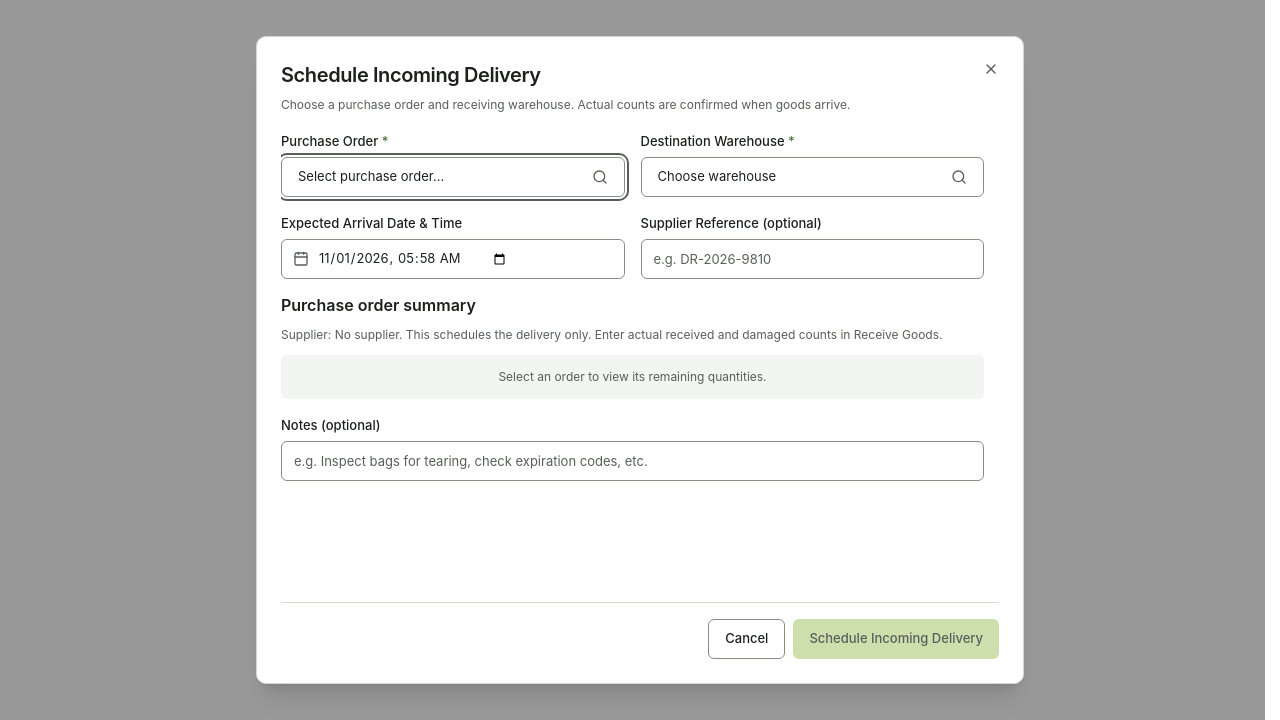
Test: loads pages only on demand, preserves filters and deduplicates selector options
Click the button "Select purchase order..." at x=371, y=176, box [281,157,624,197]
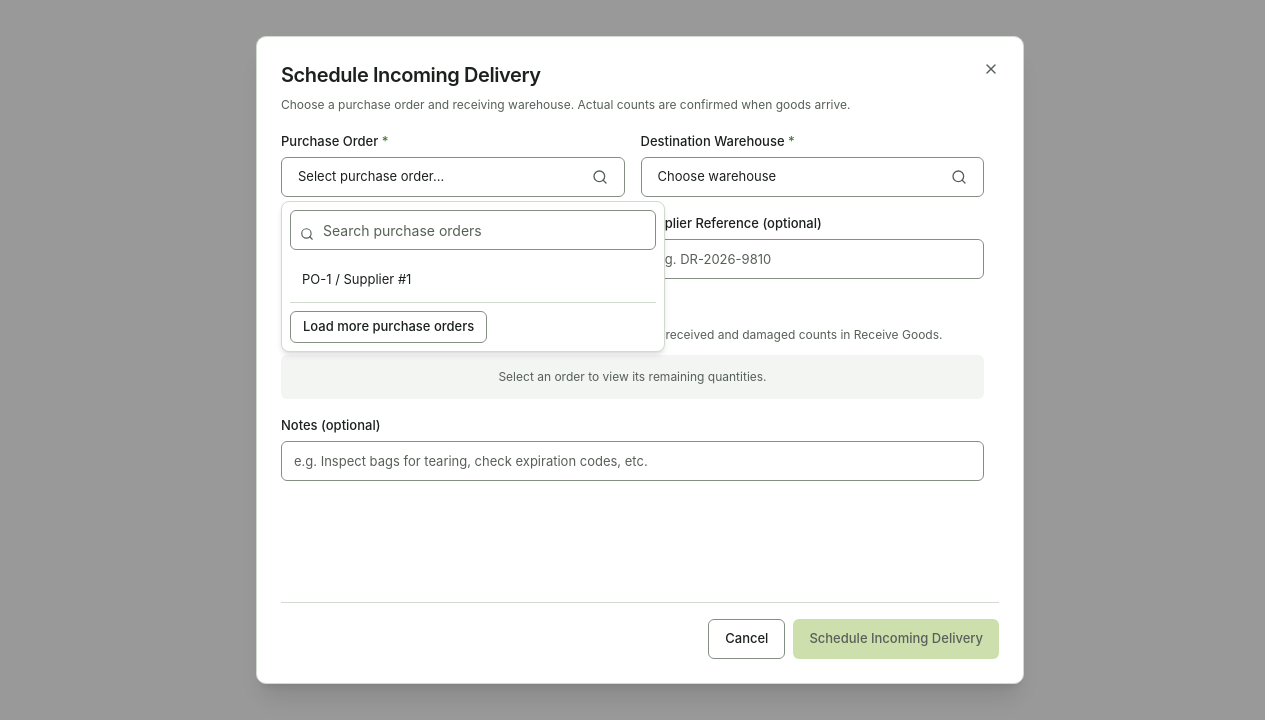
Click the button "Load more purchase orders" at x=389, y=327, box [290,311,487,343]
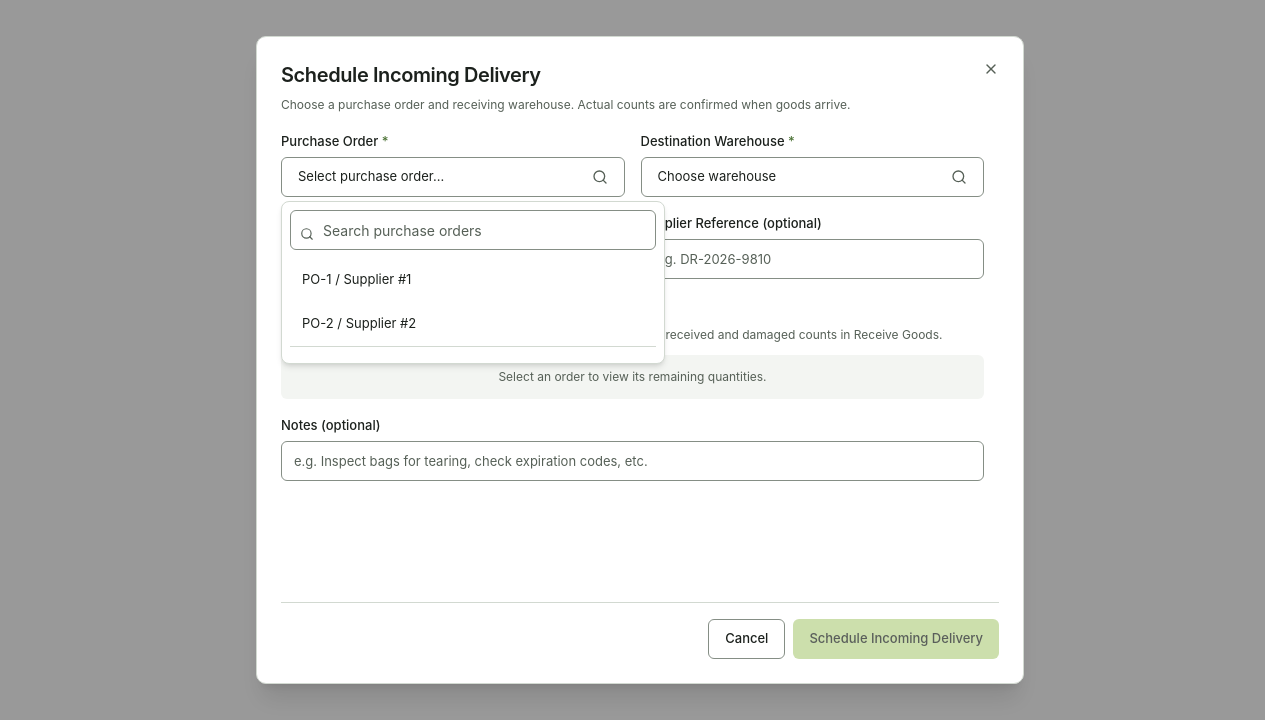
expect the menu item "PO-2 / Supplier #2" is shown: met
expect the number of menu items "PO-1 / Supplier #1" is 1: met, box [302,271,411,287]
Click the menu item "PO-2 / Supplier #2" at x=359, y=323, box [302,315,416,331]
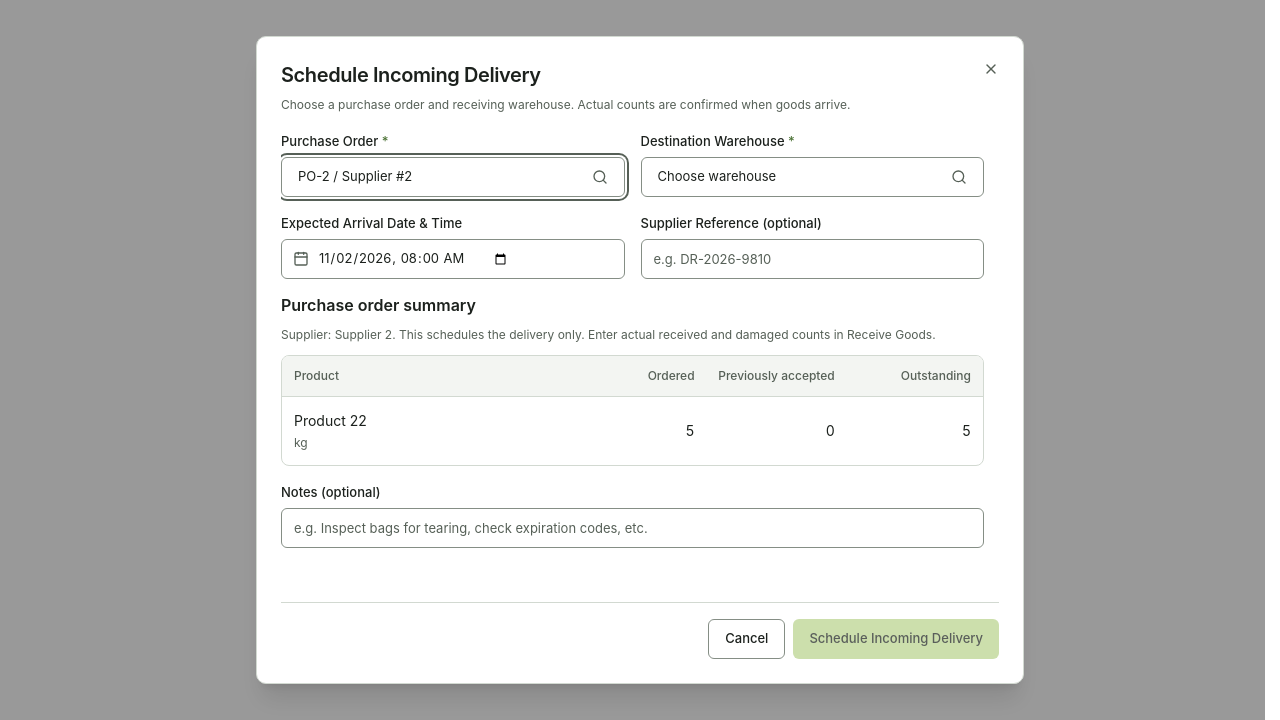
expect the text "Product 22" is shown: met, box [294,412,367,428]
Click the button with aria-label "Destination Warehouse" at x=717, y=176, box [640,157,984,197]
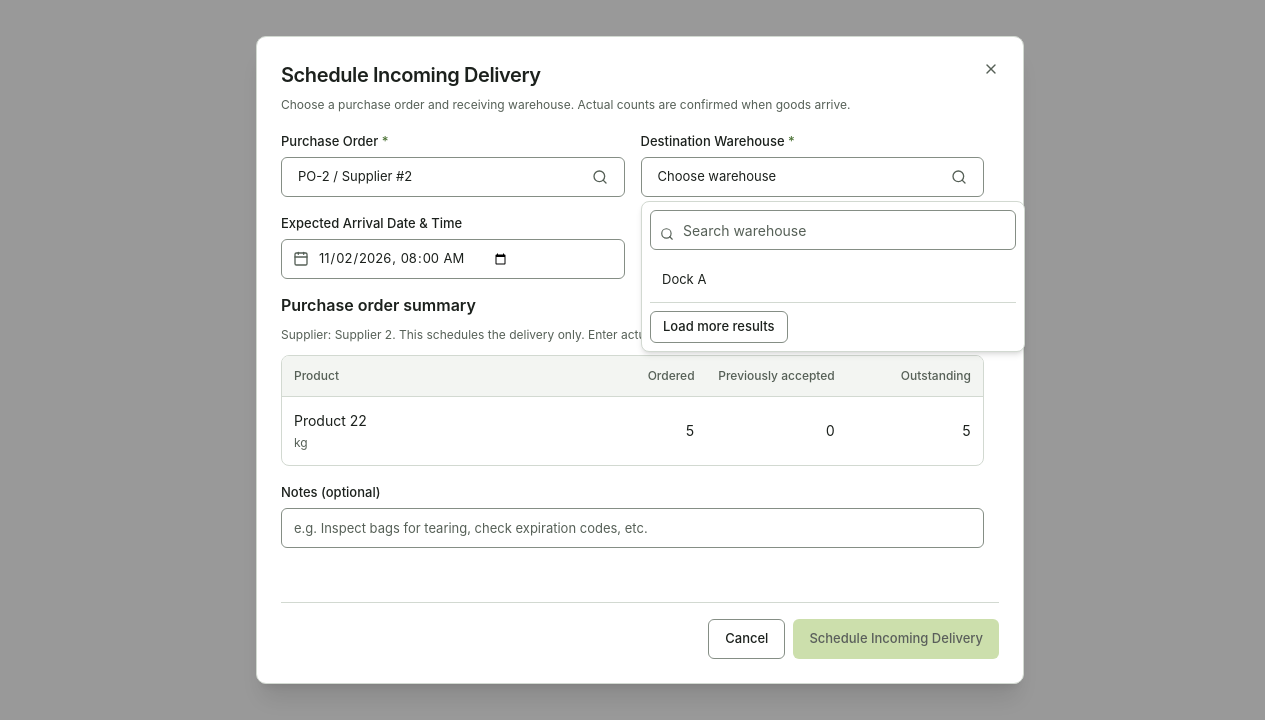
Click the button "Load more results" at x=719, y=327, box [650,311,788,343]
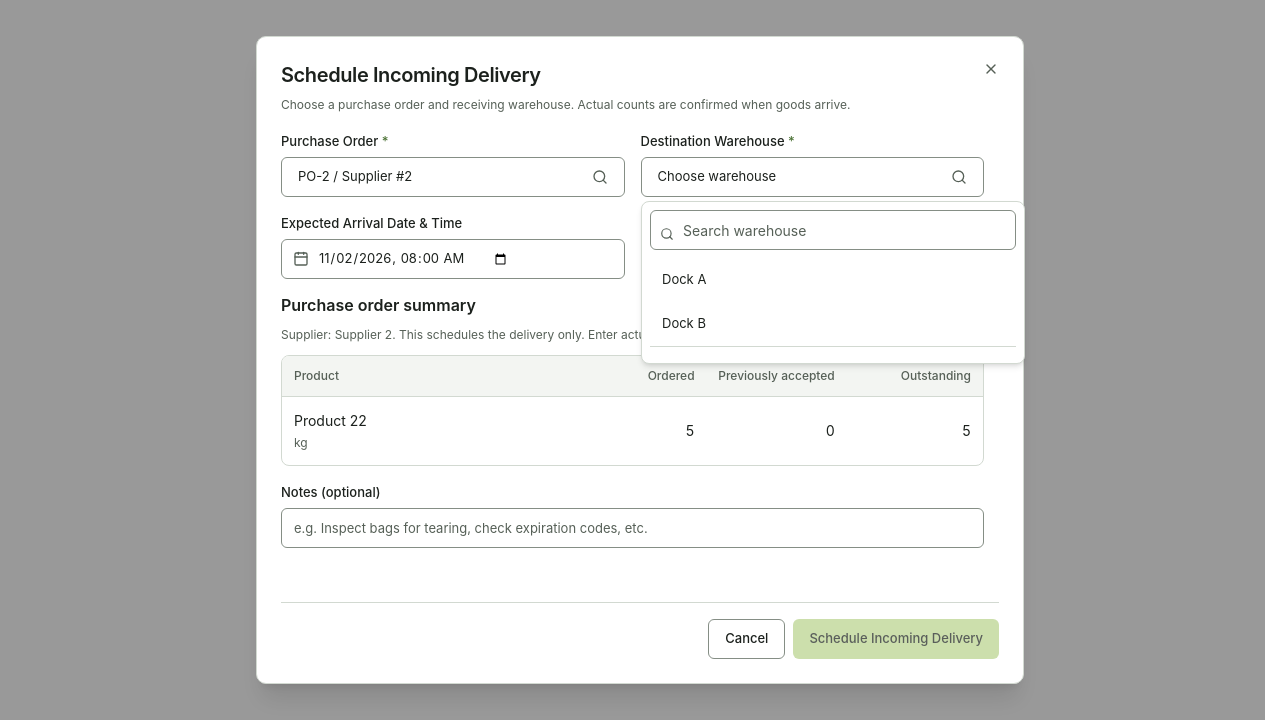
expect the menu item "Dock B" is shown: met, box [662,315,706,331]
expect the number of menu items "Dock A" is 1: met, box [662,271,706,287]
